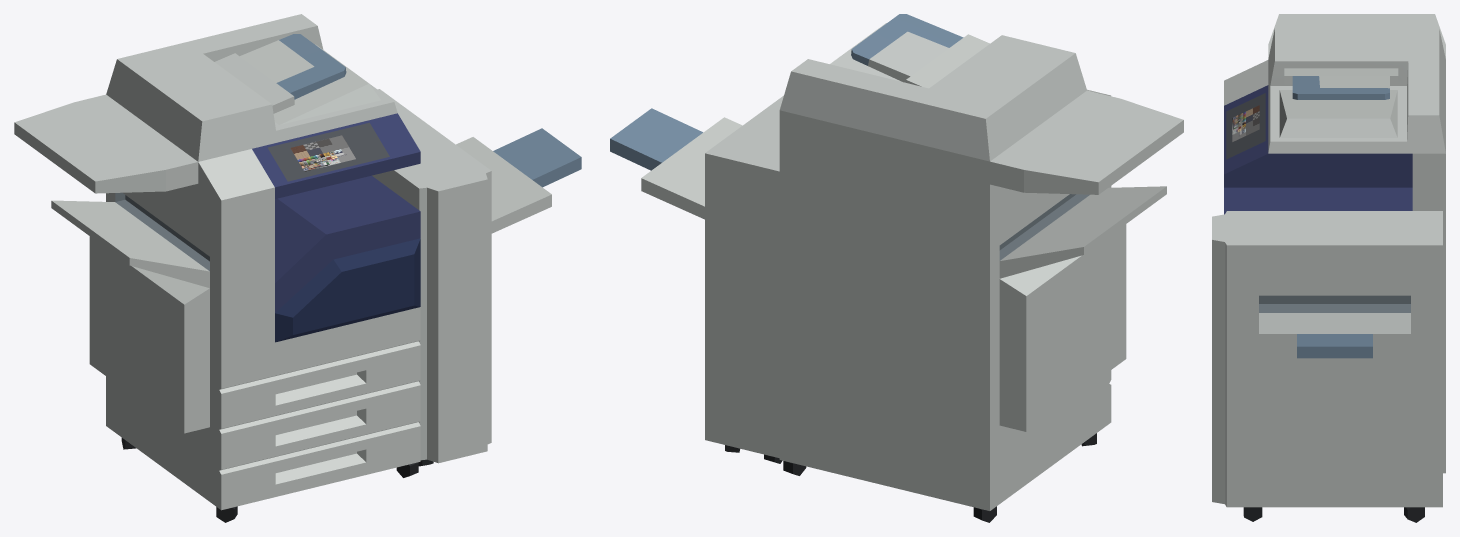
The model's file is SM_Prop_Photocopier_01.glb.
The picture shows the model from 3 angles, left to right: view 1: azimuth 30°, elevation 25°; view 2: azimuth 150°, elevation 25°; view 3: azimuth 270°, elevation 25°; orthographic projection. The views are drawn at different scales.
Parts seen in each view (by area): view 1: SM_Prop_Photocopier_01; view 2: SM_Prop_Photocopier_01; view 3: SM_Prop_Photocopier_01.
Boxes of the visible parts, x1=… form: SM_Prop_Photocopier_01: x1=14, y1=14, x2=581, y2=522; SM_Prop_Photocopier_01: x1=610, y1=14, x2=1183, y2=522; SM_Prop_Photocopier_01: x1=1212, y1=14, x2=1445, y2=522.
Bounding box in the file's own units: 1.41 × 1.07 × 0.5972.
Materials: 2 (2 with a texture image).
